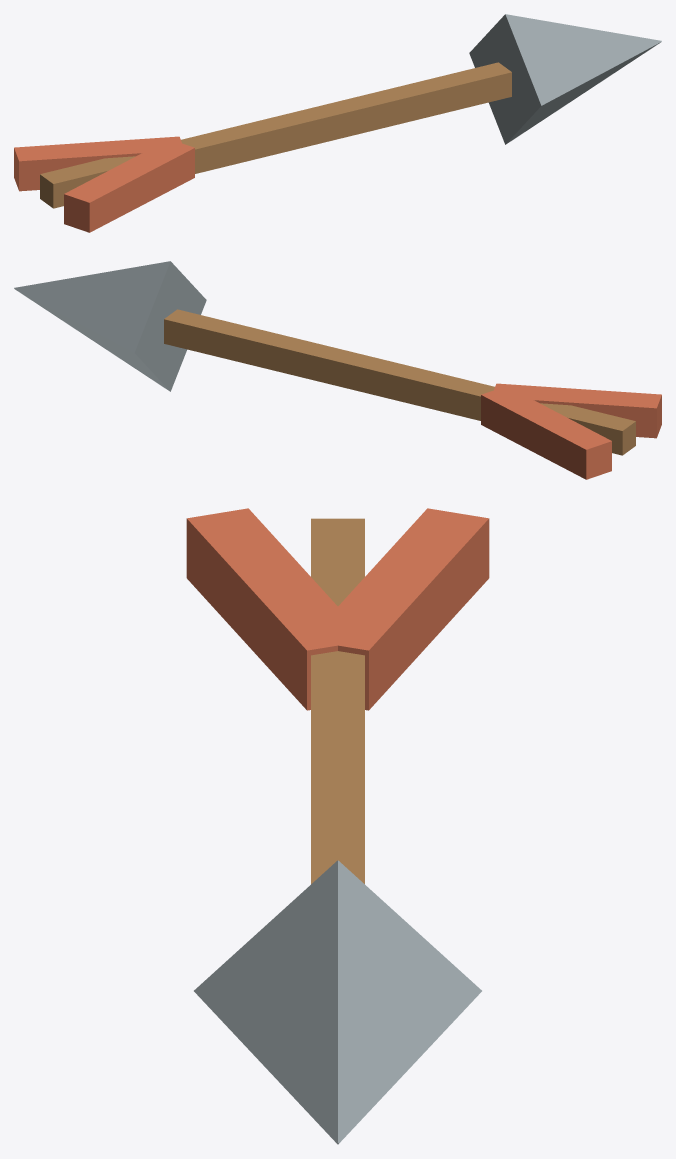
Rendered from ArrowProjectile.fbx.
The picture shows the model from 3 angles, top to bottom: view 1: azimuth 30°, elevation 25°; view 2: azimuth 150°, elevation 25°; view 3: azimuth 270°, elevation 25°; orthographic projection. The views are drawn at different scales.
Parts seen in each view (by area): view 1: ArrowProjectile.001; view 2: ArrowProjectile.001; view 3: ArrowProjectile.001.
Boxes of the visible parts, x1=… form: ArrowProjectile.001: x1=14, y1=14, x2=661, y2=232; ArrowProjectile.001: x1=14, y1=261, x2=661, y2=479; ArrowProjectile.001: x1=186, y1=508, x2=489, y2=1144.
Bounding box in the file's own units: 119 × 24 × 25.13.
